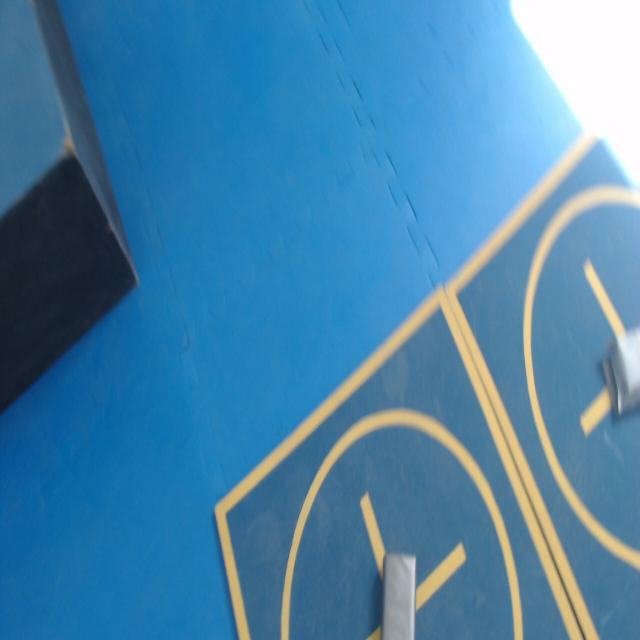lipo: (604, 325, 640, 413), (382, 554, 416, 639)
